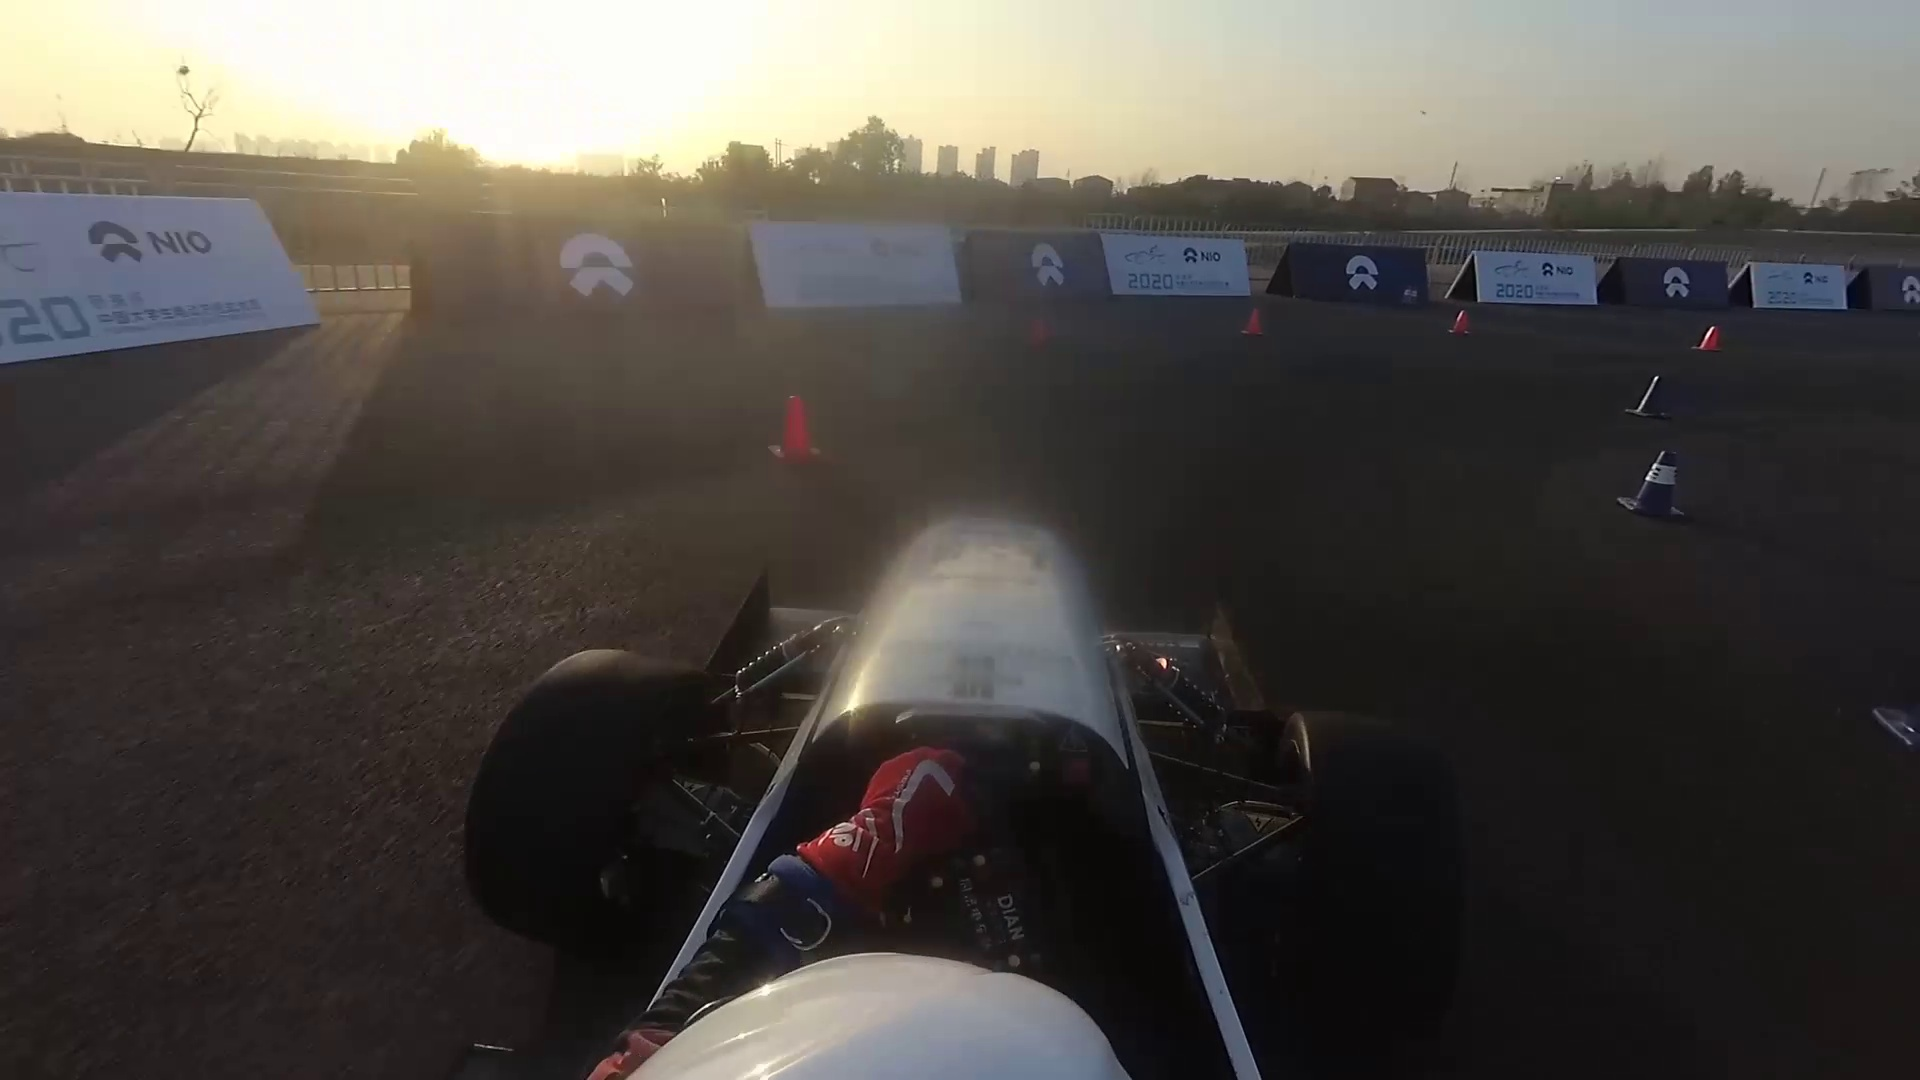blue_cone: (1625, 451, 1683, 520), (1625, 378, 1669, 413)
red_cone: (775, 397, 824, 465), (1017, 310, 1055, 353), (1693, 324, 1725, 352), (1244, 305, 1267, 336), (1452, 309, 1468, 331)
